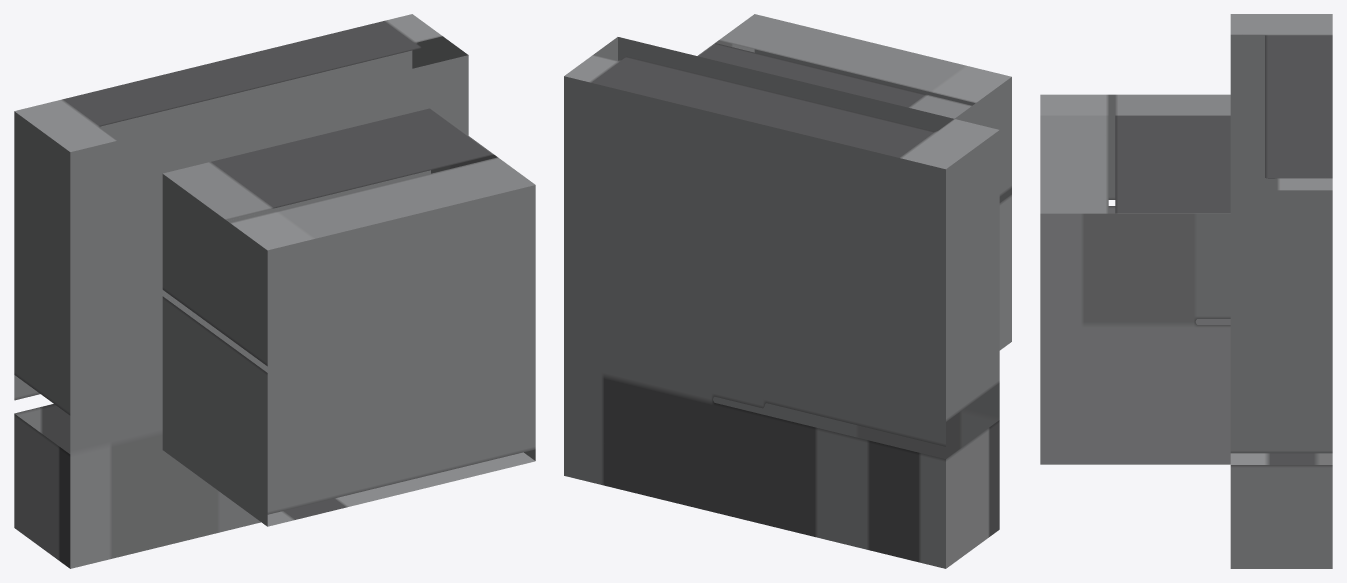
The picture shows the model from 3 angles, left to right: view 1: azimuth 30°, elevation 25°; view 2: azimuth 150°, elevation 25°; view 3: azimuth 270°, elevation 25°; orthographic projection. The views are drawn at different scales.
Size of the model in its own units: 0.9072 by 0.9073 by 0.6356.
